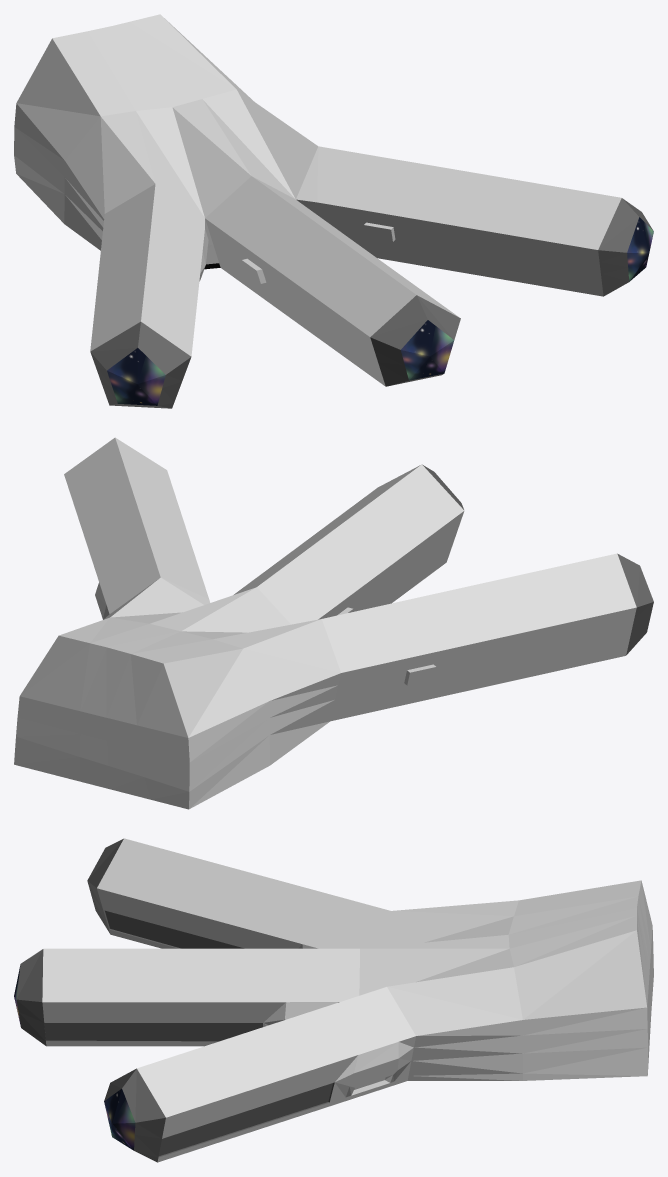
The model's file is hub v3 textured.fbx.
3 renders of one model, top to bottom at view 1: azimuth 30°, elevation 25°; view 2: azimuth 150°, elevation 25°; view 3: azimuth 270°, elevation 25°, orthographic. The views are drawn at different scales.
Parts seen in each view (by area): view 1: pasted__pasted__pPlatonic1; view 2: pasted__pasted__pPlatonic1; view 3: pasted__pasted__pPlatonic1.
Part boxes in pixels (box(x1,y1,x2,y2)): pasted__pasted__pPlatonic1: box(14, 14, 653, 408); pasted__pasted__pPlatonic1: box(14, 437, 653, 809); pasted__pasted__pPlatonic1: box(14, 838, 653, 1162).
Size of the model in its own units: 293 by 66.51 by 301.
Materials: 12 (3 with a texture image).
